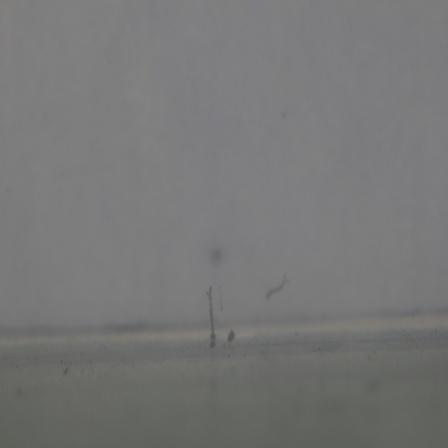Jentik-Nyamuk: (201, 282, 221, 353)
